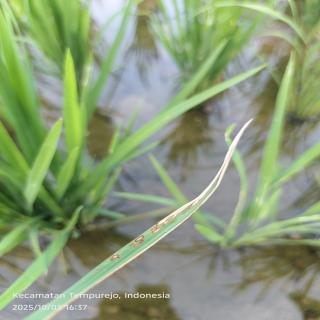bercak-Cokelat: (127, 233, 148, 250), (106, 251, 125, 263), (149, 224, 164, 236)
